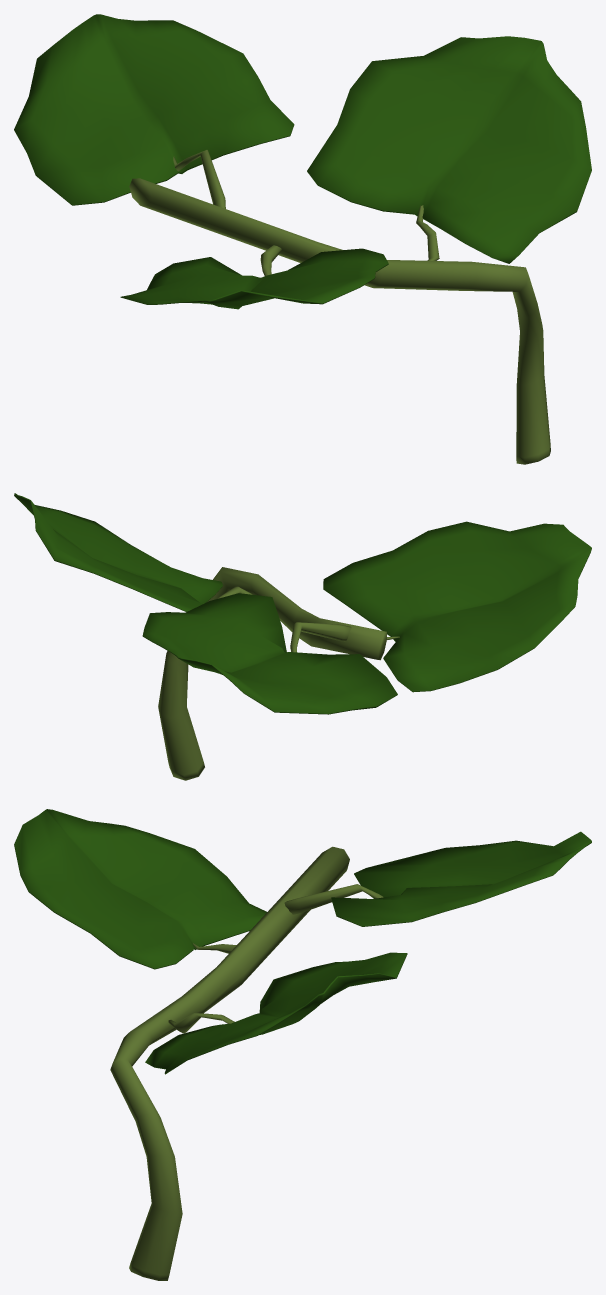
The model's file is AboboraBroto.fbx.
3 renders of one model, top to bottom at view 1: azimuth 30°, elevation 25°; view 2: azimuth 150°, elevation 25°; view 3: azimuth 270°, elevation 25°, orthographic. The views are drawn at different scales.
Parts seen in each view (by area): view 1: AboboraBroto; view 2: AboboraBroto; view 3: AboboraBroto.
Boxes of the visible parts, bbox=[...] form: AboboraBroto: bbox=[14, 14, 591, 464]; AboboraBroto: bbox=[14, 493, 591, 780]; AboboraBroto: bbox=[14, 809, 591, 1280].
Size of the model in its own units: 23.19 by 15.1 by 23.4.
